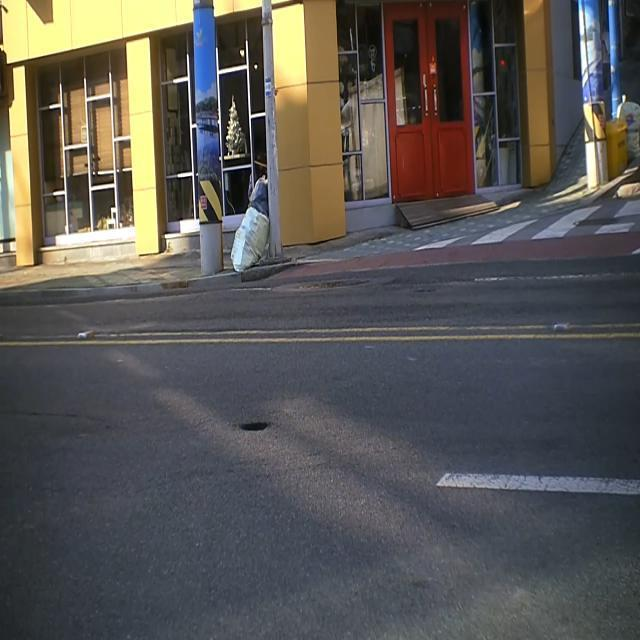pothole: (233, 406, 278, 446)
